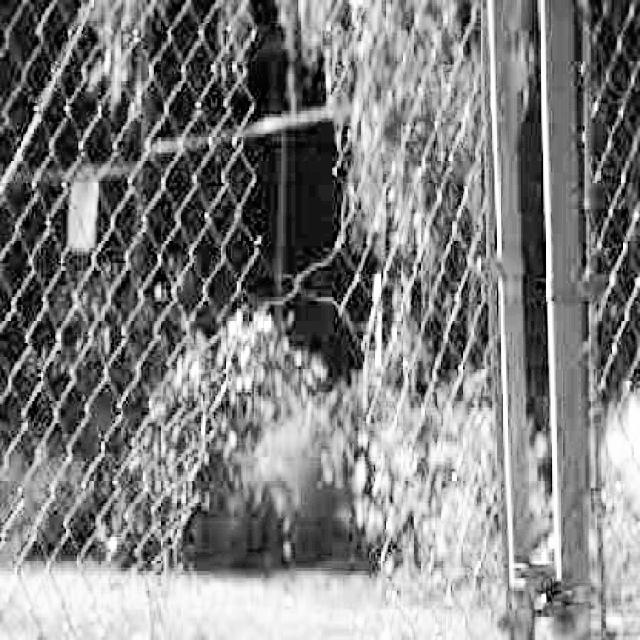anomaly-fence: (138, 0, 454, 602)
